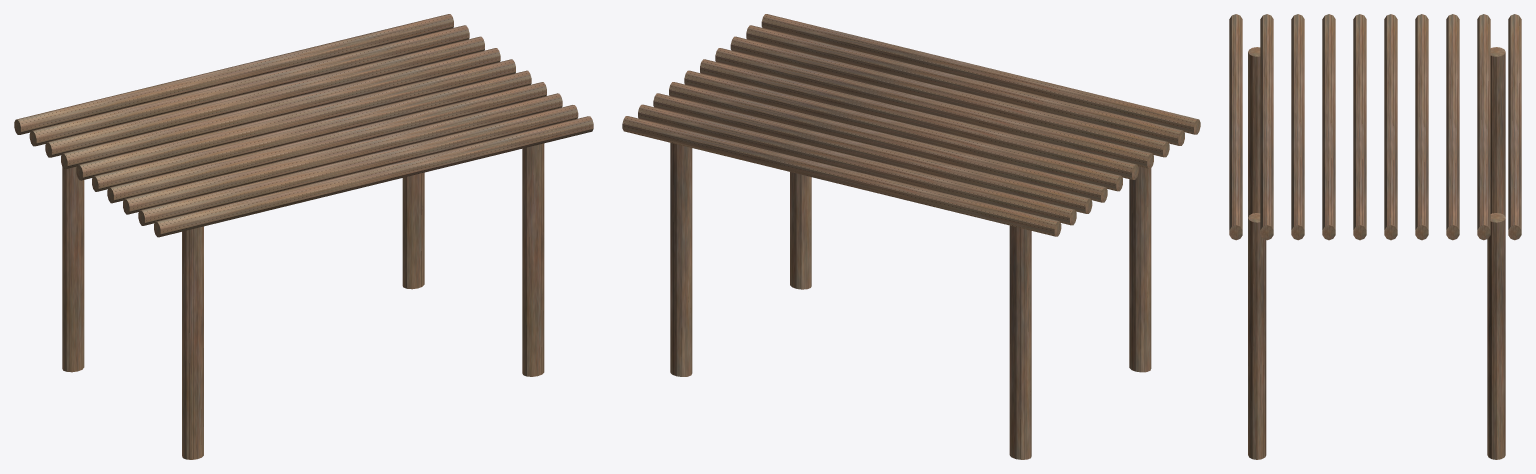
Rendered from shade-canopy.glb.
The picture shows the model from 3 angles, left to right: view 1: azimuth 30°, elevation 25°; view 2: azimuth 150°, elevation 25°; view 3: azimuth 270°, elevation 25°; orthographic projection.
Visible parts, largest first — view 1: Playground shade canopy roof slat 0, Playground shade canopy roof slat 8, Playground shade canopy roof slat 1, Playground shade canopy roof slat 2, Playground shade canopy roof slat 7, Playground shade canopy roof slat 5, Playground shade canopy roof slat 9, Playground shade canopy roof slat 4, Playground shade canopy roof slat 6, Playground shade canopy roof slat 3, Playground shade canopy post.002, Playground shade canopy post (+2 smaller); view 2: Playground shade canopy roof slat 9, Playground shade canopy roof slat 0, Playground shade canopy roof slat 2, Playground shade canopy roof slat 7, Playground shade canopy roof slat 8, Playground shade canopy roof slat 3, Playground shade canopy roof slat 5, Playground shade canopy roof slat 6, Playground shade canopy roof slat 1, Playground shade canopy roof slat 4, Playground shade canopy post.001, Playground shade canopy post.003 (+2 smaller); view 3: Playground shade canopy post.003, Playground shade canopy post.002, Playground shade canopy roof slat 0, Playground shade canopy roof slat 3, Playground shade canopy roof slat 4, Playground shade canopy roof slat 5, Playground shade canopy roof slat 6, Playground shade canopy roof slat 9, Playground shade canopy roof slat 1, Playground shade canopy roof slat 2, Playground shade canopy roof slat 7, Playground shade canopy roof slat 8 (+2 smaller).
Boxes of the visible parts, x1,y1,x2,y2 form: Playground shade canopy roof slat 0: (154,116,593,237); Playground shade canopy roof slat 8: (29,25,469,146); Playground shade canopy roof slat 1: (138,105,578,225); Playground shade canopy roof slat 2: (123,93,562,214); Playground shade canopy roof slat 7: (45,36,484,157); Playground shade canopy roof slat 5: (76,59,515,180); Playground shade canopy roof slat 9: (14,14,453,134); Playground shade canopy roof slat 4: (92,70,531,191); Playground shade canopy roof slat 6: (61,48,500,168); Playground shade canopy roof slat 3: (107,82,546,203); Playground shade canopy post.002: (522,143,544,376); Playground shade canopy post: (182,226,203,459); Playground shade canopy roof slat 9: (622,116,1061,236); Playground shade canopy roof slat 0: (761,14,1200,134); Playground shade canopy roof slat 2: (730,36,1169,157); Playground shade canopy roof slat 7: (653,93,1092,213); Playground shade canopy roof slat 8: (638,104,1076,225); Playground shade canopy roof slat 3: (715,48,1153,168); Playground shade canopy roof slat 5: (684,70,1122,191); Playground shade canopy roof slat 6: (669,82,1107,202); Playground shade canopy roof slat 1: (746,25,1184,145); Playground shade canopy roof slat 4: (700,59,1138,179); Playground shade canopy post.001: (1009,225,1031,459); Playground shade canopy post.003: (670,143,692,376); Playground shade canopy post.003: (1487,213,1505,459); Playground shade canopy post.002: (1248,213,1266,459); Playground shade canopy roof slat 0: (1229,14,1242,240); Playground shade canopy roof slat 3: (1322,14,1335,240); Playground shade canopy roof slat 4: (1353,14,1366,240); Playground shade canopy roof slat 5: (1384,14,1397,240); Playground shade canopy roof slat 6: (1415,14,1428,240); Playground shade canopy roof slat 9: (1508,14,1521,240); Playground shade canopy roof slat 1: (1260,14,1273,240); Playground shade canopy roof slat 2: (1291,14,1304,240); Playground shade canopy roof slat 7: (1446,14,1459,240); Playground shade canopy roof slat 8: (1477,14,1490,240).
Bounding box in the file's own units: 5.32 × 2.97 × 3.11.
1 material, 1 textured.
